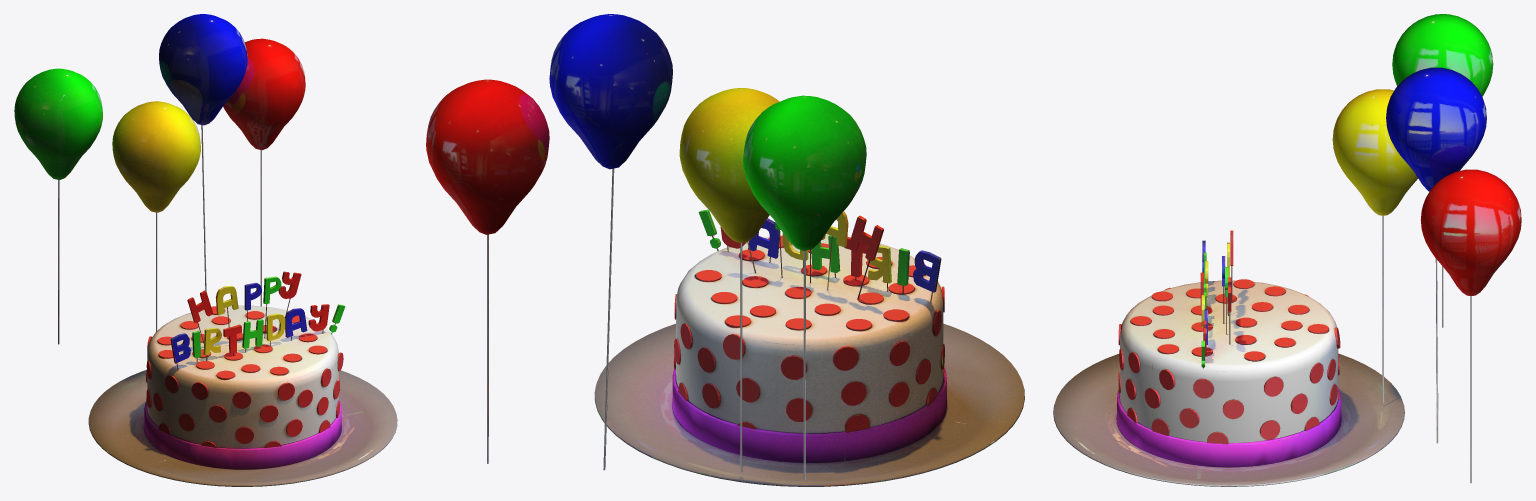
Rendered from happy_birthday_cake.glb.
3 views of the same model, side by side, from view 1: azimuth 30°, elevation 25°; view 2: azimuth 150°, elevation 25°; view 3: azimuth 270°, elevation 25° (orthographic). The views are drawn at different scales.
Parts seen in each view (by area): view 1: LowPoly; view 2: LowPoly; view 3: LowPoly.
Boxes of the visible parts, left/top/right/bottom form: LowPoly: left=14, top=14, right=397, bottom=486; LowPoly: left=426, top=14, right=1024, bottom=486; LowPoly: left=1053, top=14, right=1521, bottom=486.
Size of the model in its own units: 7.14 by 7.63 by 8.58.
Materials: 1 (1 with a texture image).
